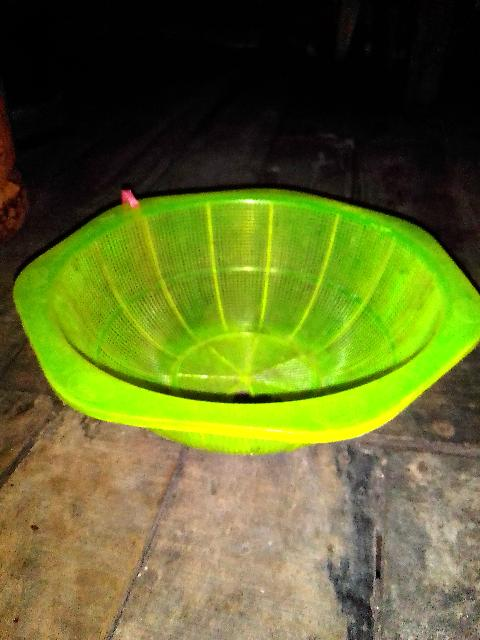hardplastic: (9, 177, 480, 457)
